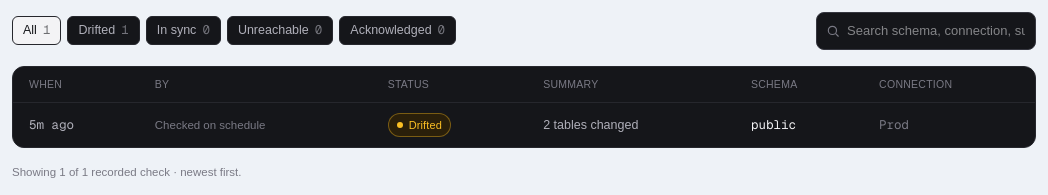
Test: the filter chips › says a filter is the reason the list is empty, not that nothing was recorded
The image size is (1048, 195).
Click the button "Unreachable0".
click(280, 31)  # box [227, 16, 333, 45]
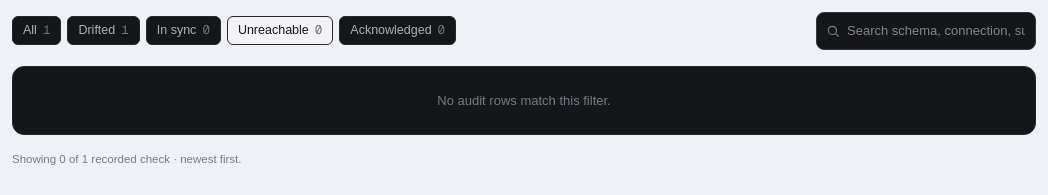
expect the button "All1" is shown: met, box [12, 16, 61, 45]
expect the text "No audit rows match this filter." is shown: met, box [12, 66, 1036, 135]
